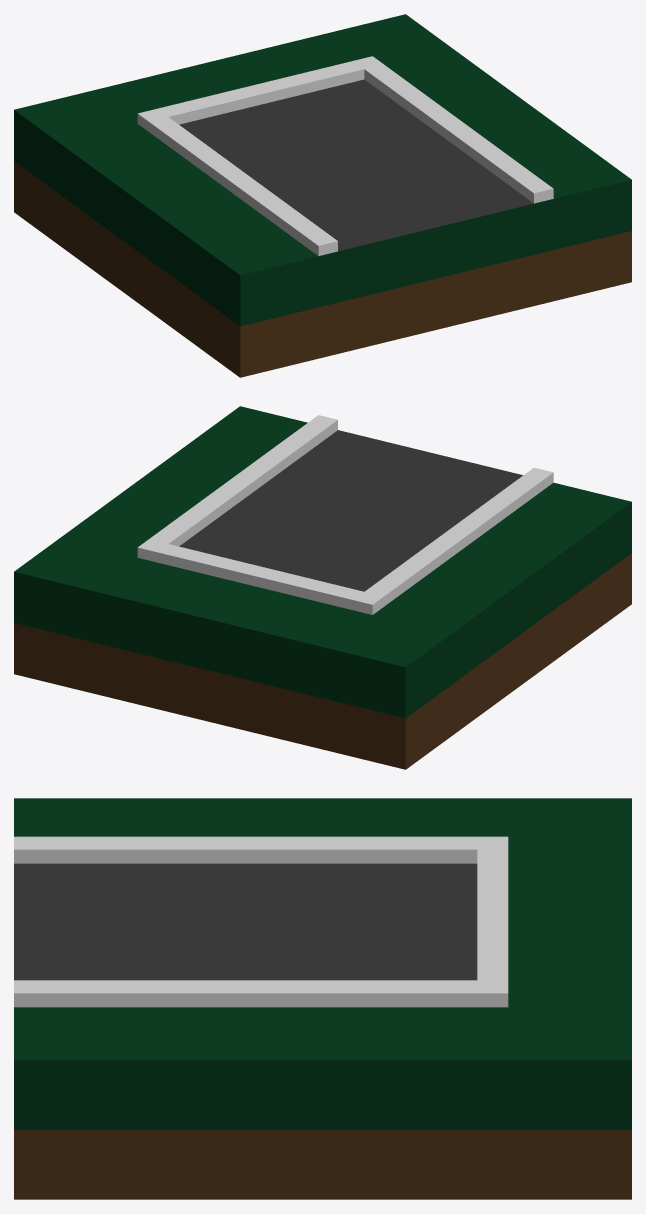
Rendered from Block_7.fbx.
3 renders of one model, top to bottom at view 1: azimuth 30°, elevation 25°; view 2: azimuth 150°, elevation 25°; view 3: azimuth 270°, elevation 25°, orthographic. The views are drawn at different scales.
Visible parts, largest first — view 1: Block_7; view 2: Block_7; view 3: Block_7.
Boxes of the visible parts, left/top/right/bottom form: Block_7: left=14, top=14, right=631, bottom=377; Block_7: left=14, top=406, right=631, bottom=769; Block_7: left=14, top=798, right=631, bottom=1199.
Bounding box in the file's own units: 400 × 110 × 400.
